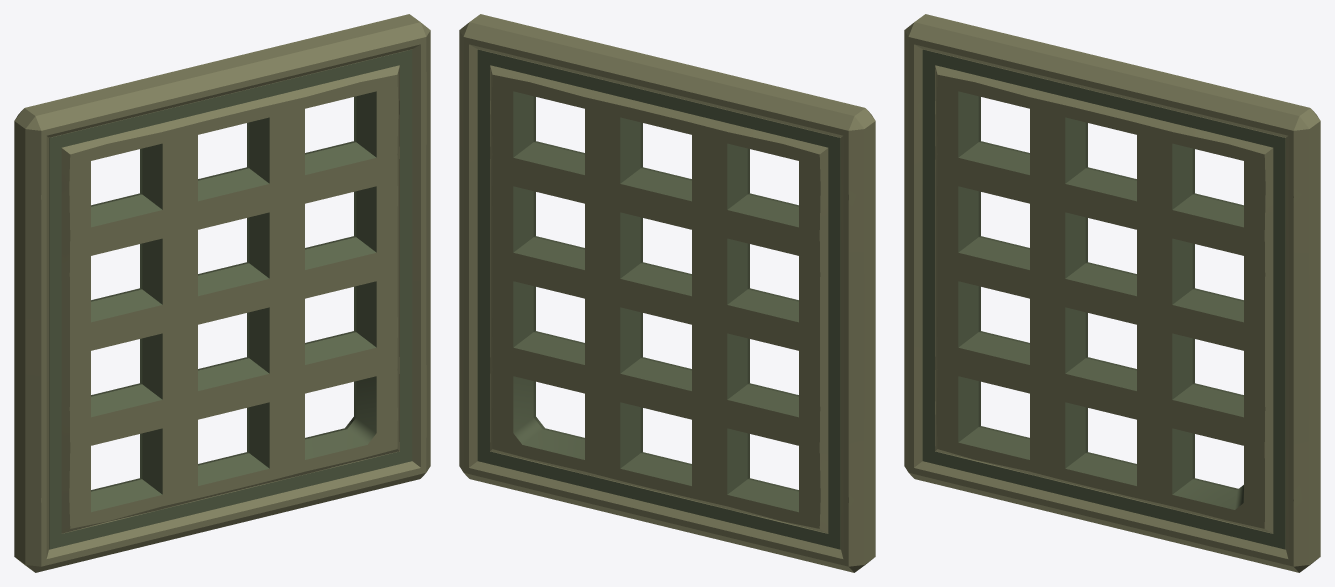
The model's file is grid_squad_2sides.fbx.
3 views of the same model, side by side, from view 1: azimuth 30°, elevation 25°; view 2: azimuth 150°, elevation 25°; view 3: azimuth 330°, elevation 25° (orthographic).
Visible parts, largest first — view 1: grid_squad_2sides; view 2: grid_squad_2sides; view 3: grid_squad_2sides.
Boxes of the visible parts, x1,y1,x2,y2 form: grid_squad_2sides: (14,14,430,572); grid_squad_2sides: (459,14,875,572); grid_squad_2sides: (904,14,1320,572).
Size of the model in its own units: 3.7 by 3.99 by 0.3595.
